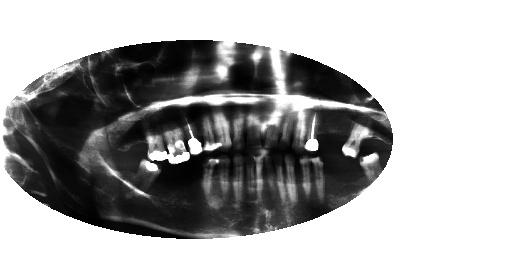Fillings: (165, 124, 190, 164), (135, 159, 161, 193), (145, 127, 168, 161)
Implant: (182, 116, 204, 155), (304, 111, 324, 152)
